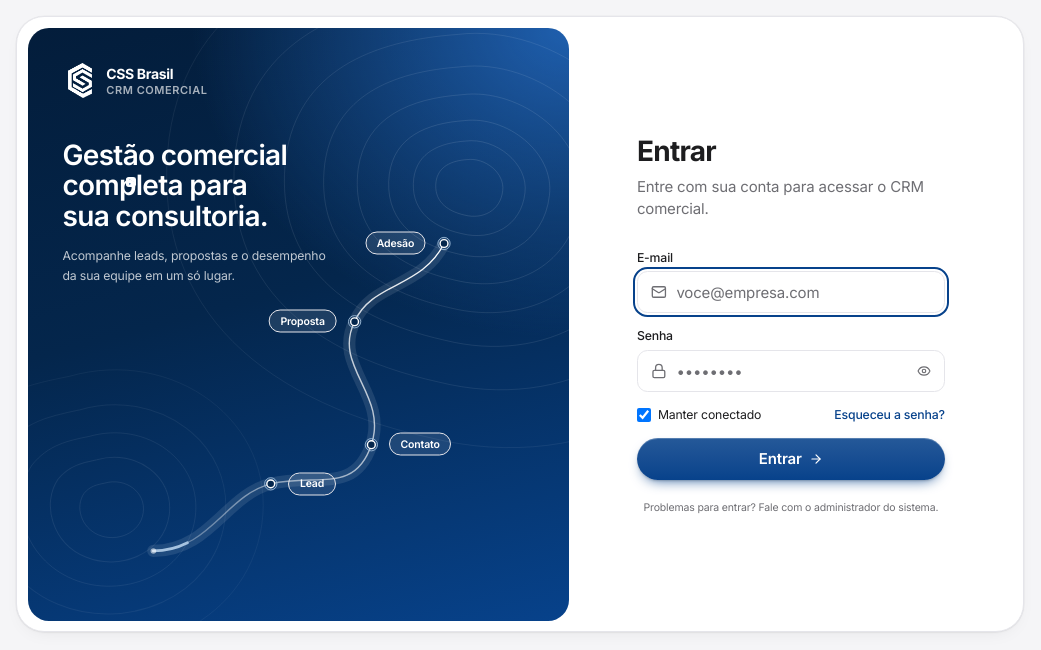
Test: LoginPage › senha errada: mostra o erro, limpa a senha, mantém o e-mail e volta o cursor para a senha
Type "ana@empresa.com" into the field labelled "E-mail".
click(791, 292); type("ana@empresa.com")  # box [637, 271, 945, 313]
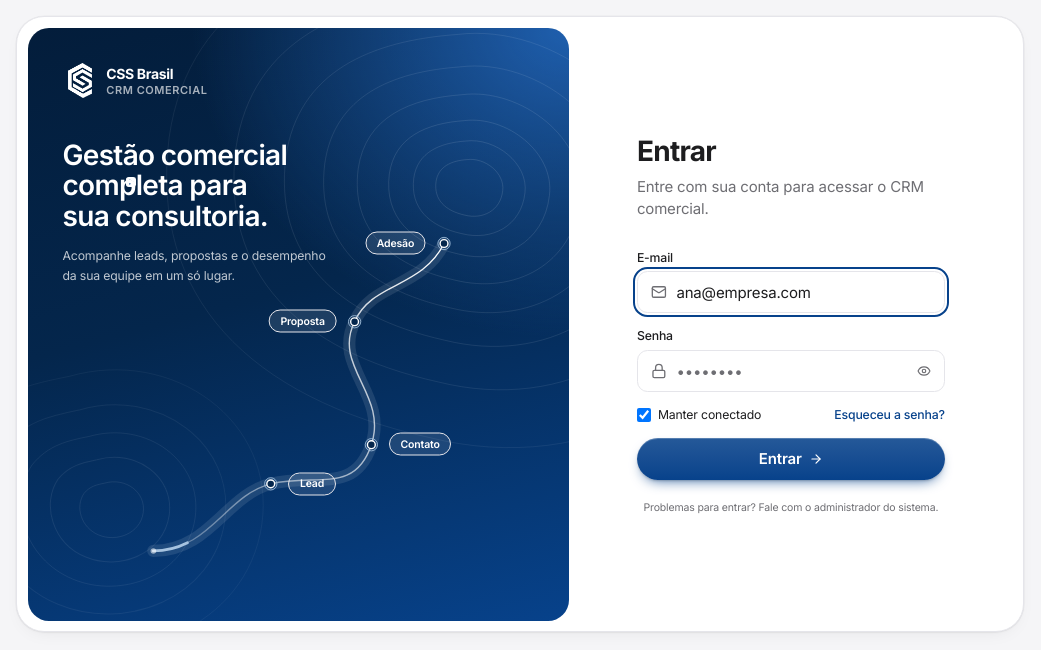
Type "errada" into the password field labelled "Senha".
click(791, 371); type("errada")  # box [637, 350, 945, 392]
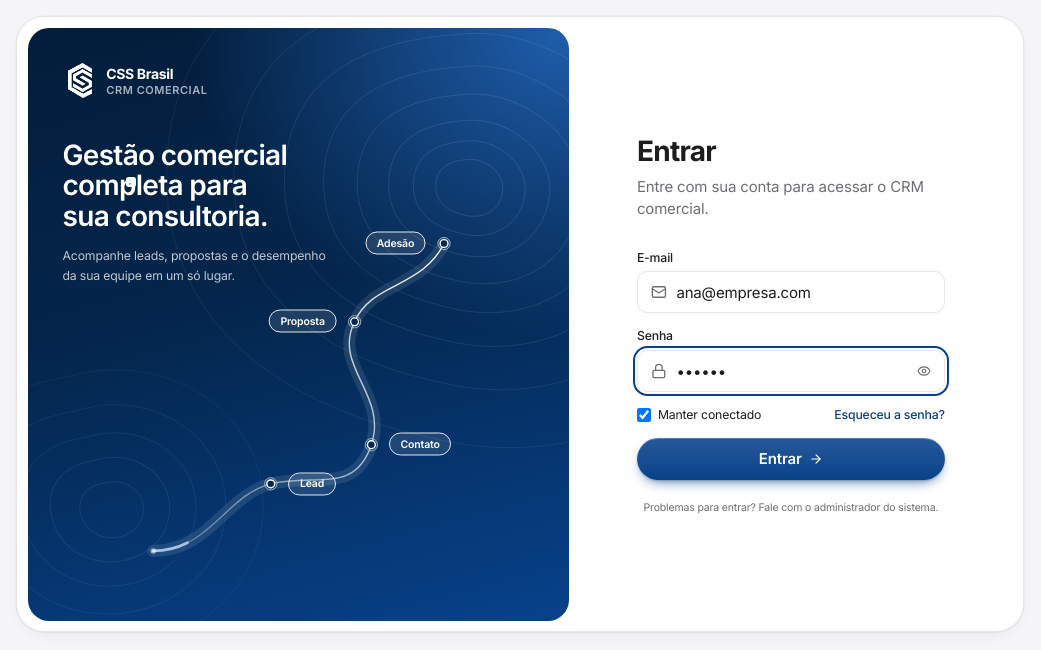
Click the button "Entrar".
click(791, 458)  # box [637, 438, 945, 480]
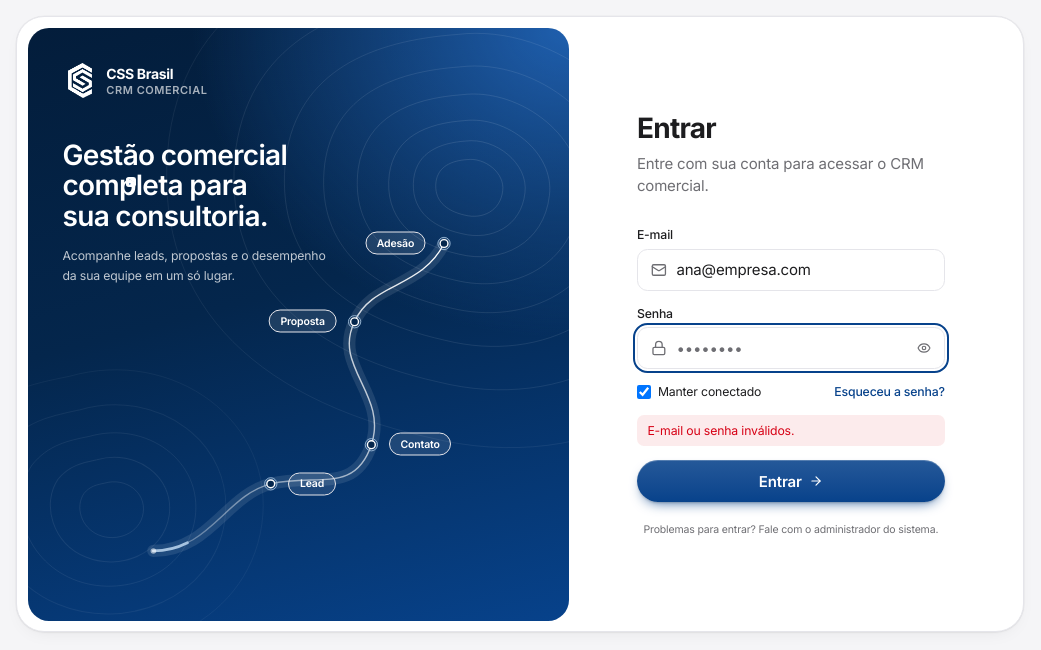
Now the message reads "E-mail ou senha inválidos.", box [647, 423, 794, 438]
Now the password field labelled "Senha" is empty, box [637, 327, 945, 369]
